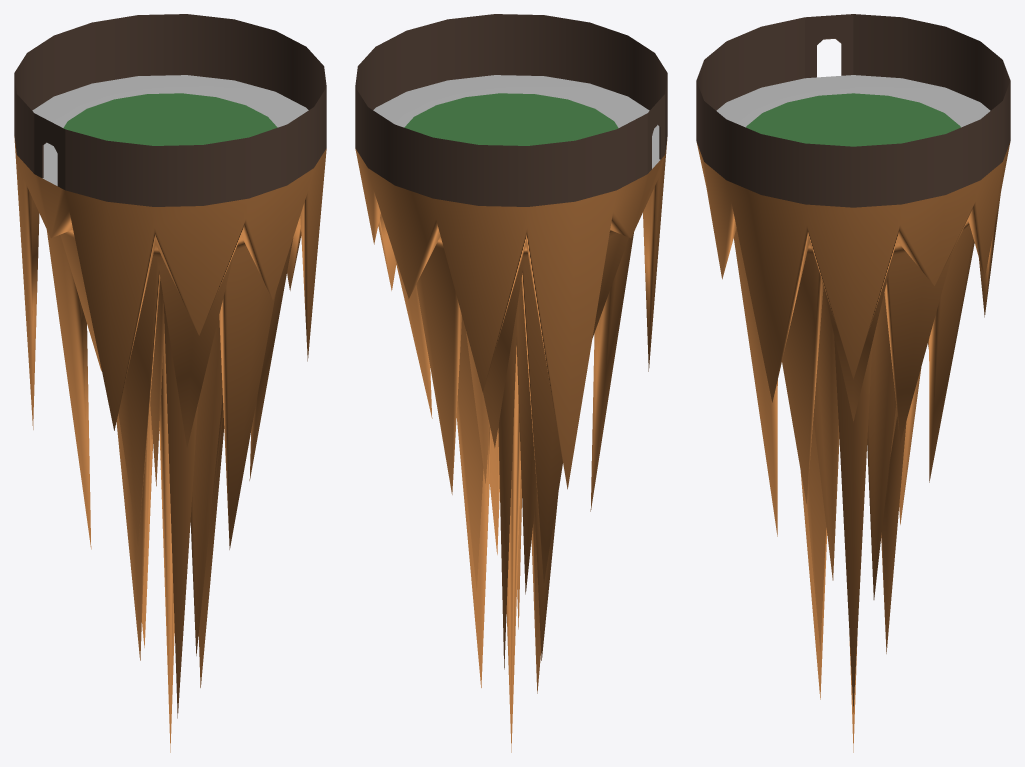
Rendered from Eiland.fbx.
3 renders of one model, left to right at view 1: azimuth 30°, elevation 25°; view 2: azimuth 150°, elevation 25°; view 3: azimuth 270°, elevation 25°, orthographic.
Visible parts, largest first — view 1: pSphere1; view 2: pSphere1; view 3: pSphere1.
Part boxes in pixels (box(x1,y1,x2,y2)): pSphere1: box(14, 14, 326, 752); pSphere1: box(355, 14, 667, 752); pSphere1: box(696, 14, 1010, 752).
Bounding box in the file's own units: 2.79 × 6.6 × 2.79.
